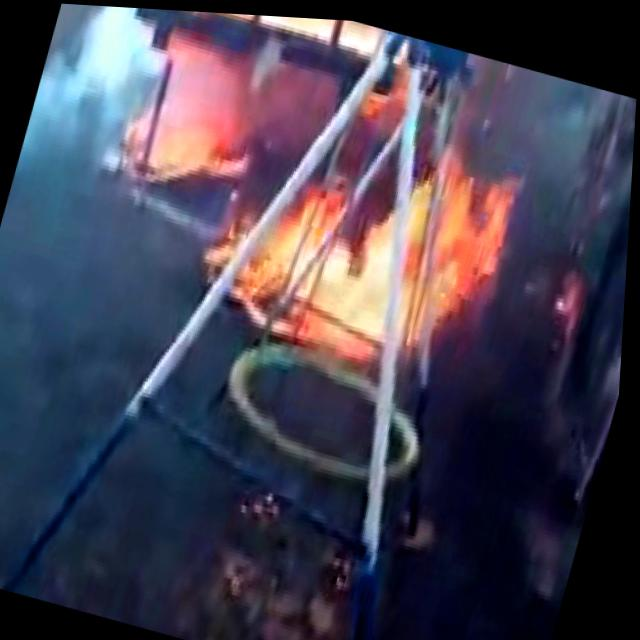fire: (395, 128, 519, 320), (146, 63, 258, 207), (317, 218, 400, 335)
smoke: (68, 3, 148, 127)
